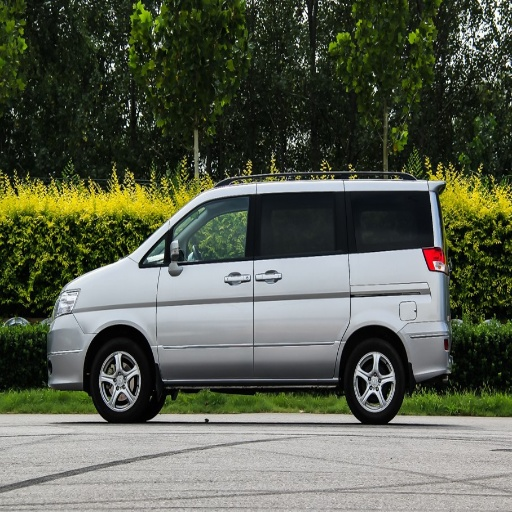back_left_door: (255, 188, 347, 370)
front_left_door: (156, 189, 255, 376)
trunk: (343, 283, 448, 376)
